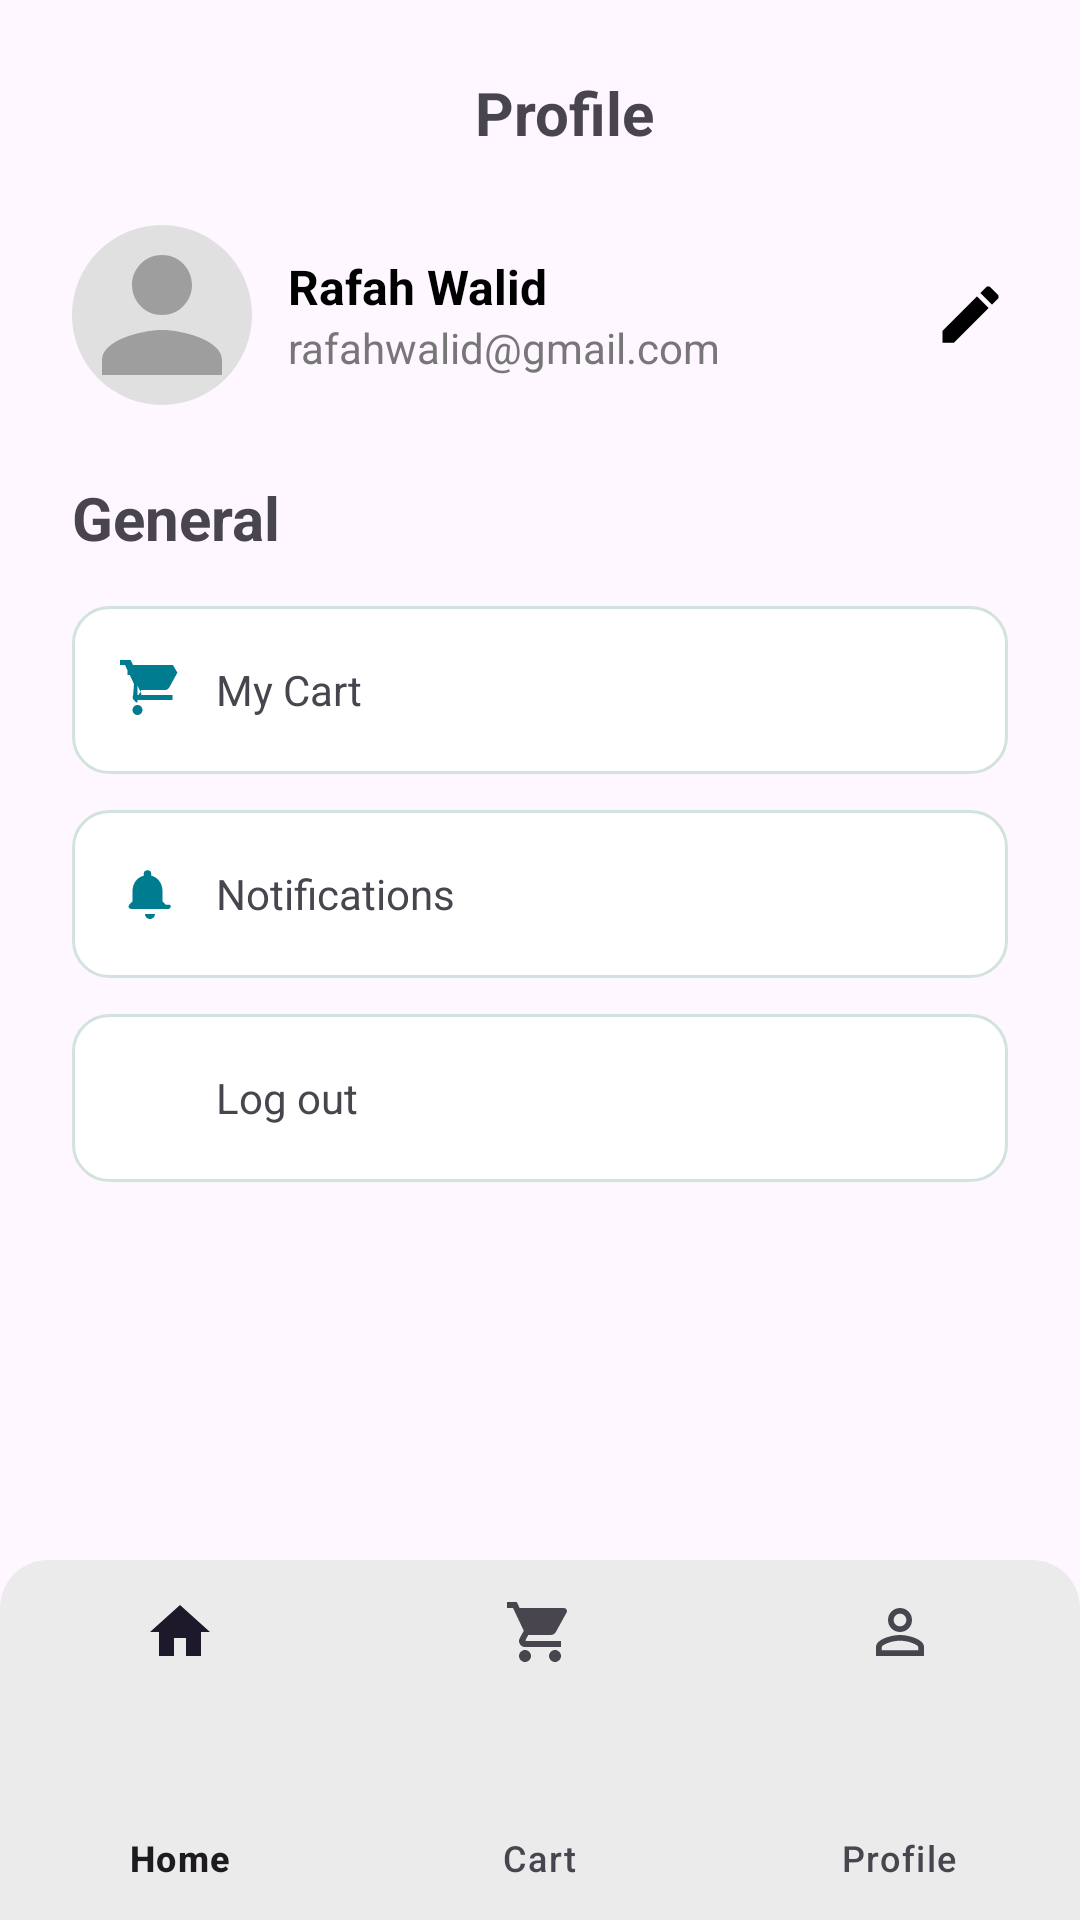

Icon click points for this 1080×1920 phone screenshot, format [x,y]:
edit: [970,314]
